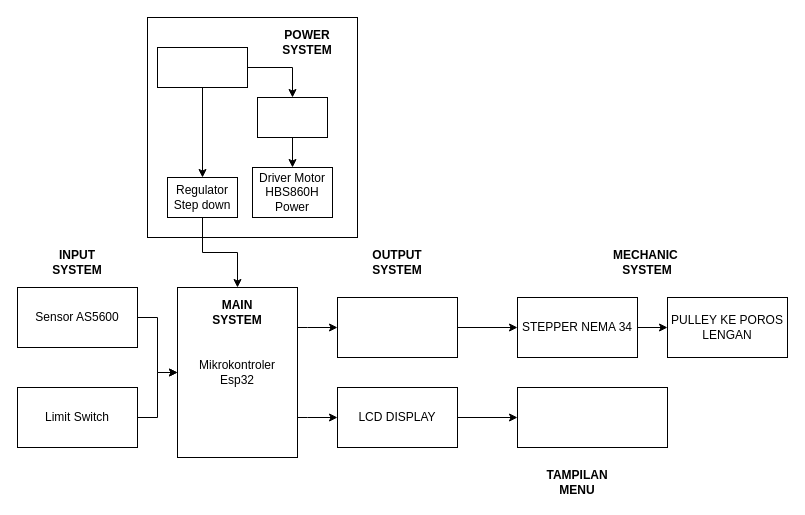
This 805x515 diagram has some shape labels left out. The centre of each missing label's shape, as x and y in pixels:
"DRIVER HBS860H" goes at (x=397, y=327).
"Emergency Stop" goes at (x=292, y=117).
"MENU LATIHAN, PANTAU SUDUT, UJI TARGET, LIHAT DATA" goes at (x=592, y=417).
"SMPS 48V" goes at (x=202, y=67).
